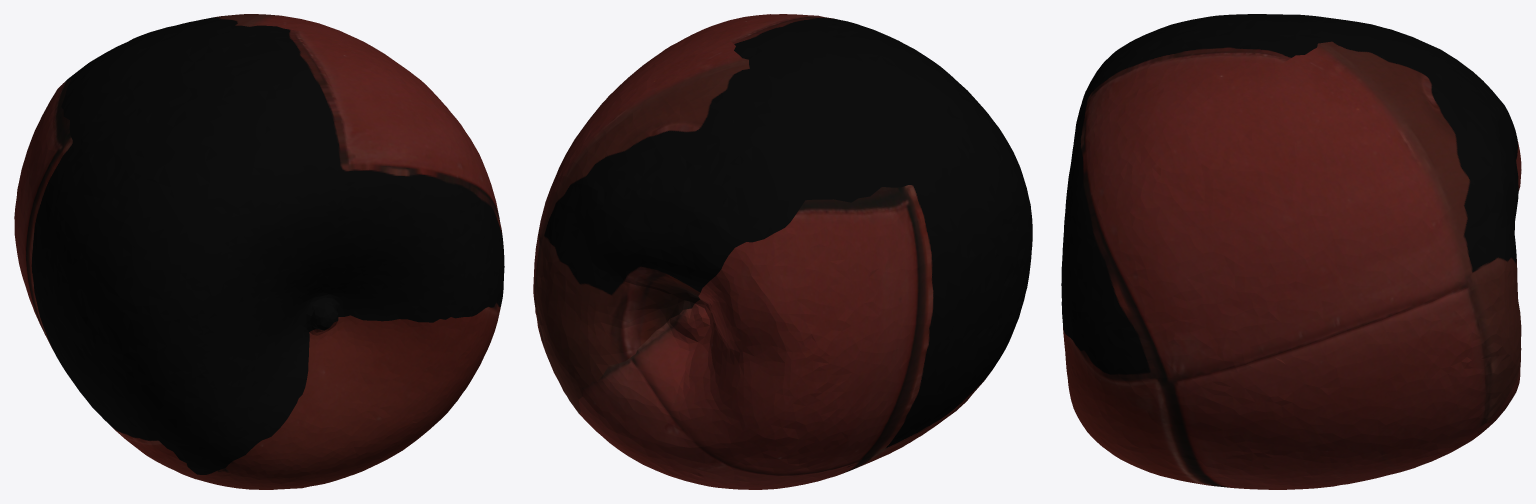
3 renders of one model, left to right at view 1: azimuth 30°, elevation 25°; view 2: azimuth 150°, elevation 25°; view 3: azimuth 270°, elevation 25°, orthographic. The views are drawn at different scales.
Size of the model in its own units: 0.0754 by 0.0749 by 0.0719.
